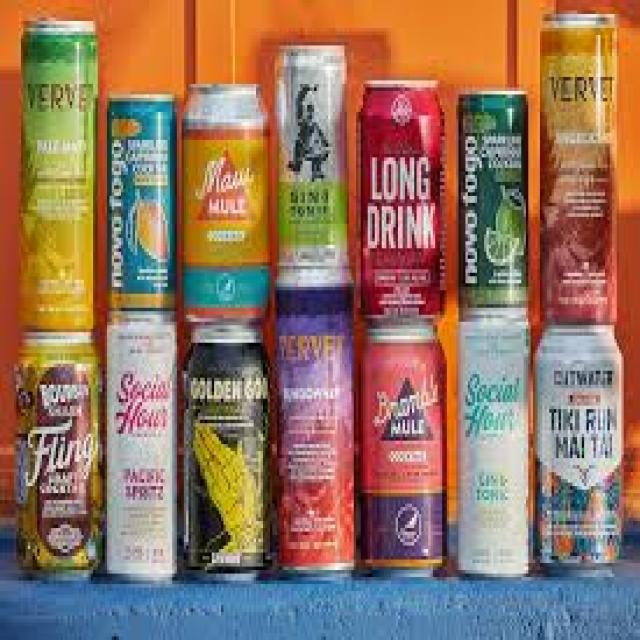Cans: (533, 7, 626, 325), (263, 311, 361, 584), (16, 14, 100, 329), (531, 318, 635, 570), (352, 70, 449, 322), (268, 38, 356, 315), (447, 314, 535, 588), (179, 322, 272, 580), (12, 328, 107, 580), (179, 80, 275, 322), (358, 322, 447, 574), (102, 304, 180, 581), (456, 84, 533, 318), (102, 87, 182, 308)
